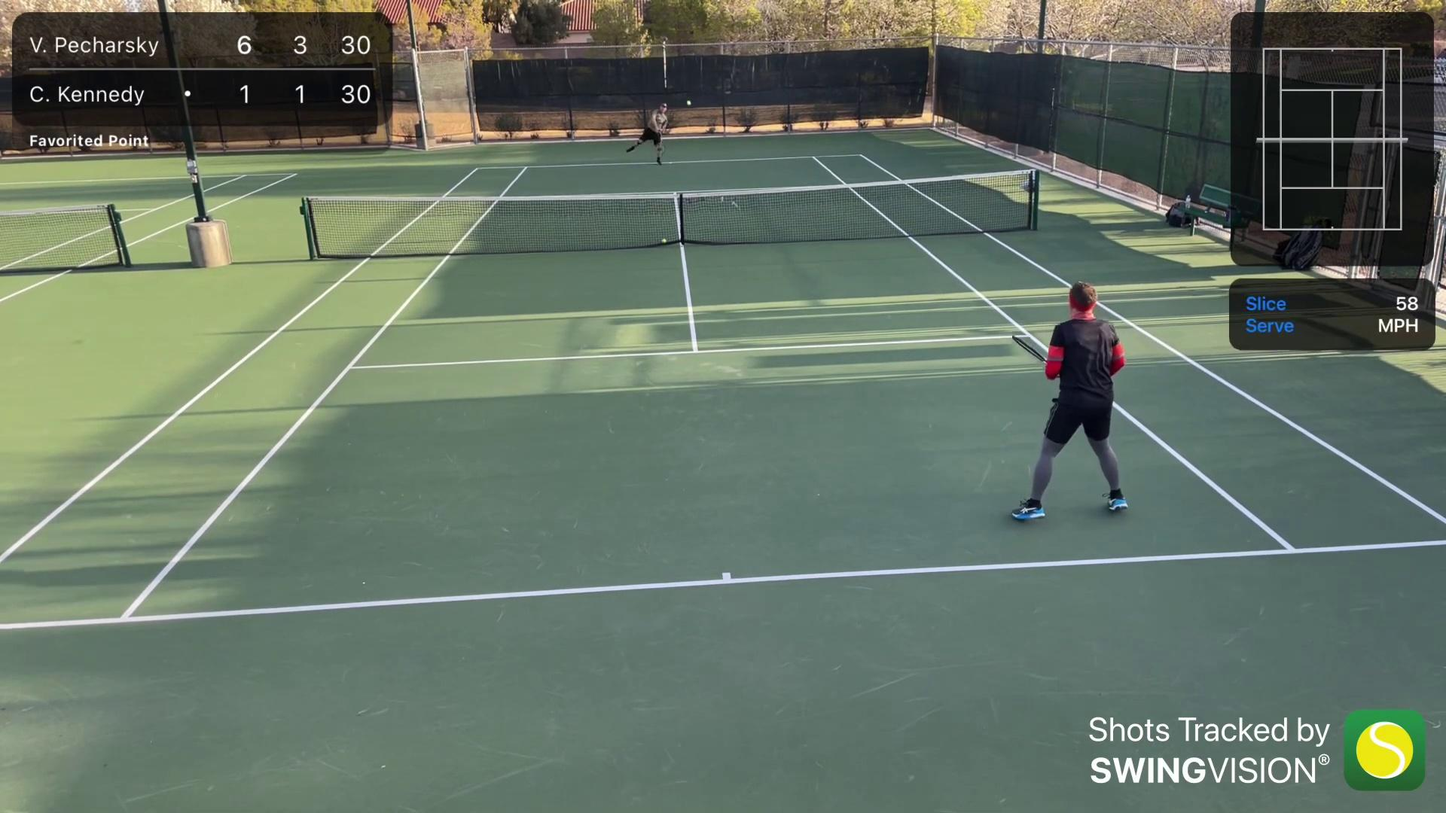ball: (658, 237, 671, 246), (685, 99, 693, 108)
